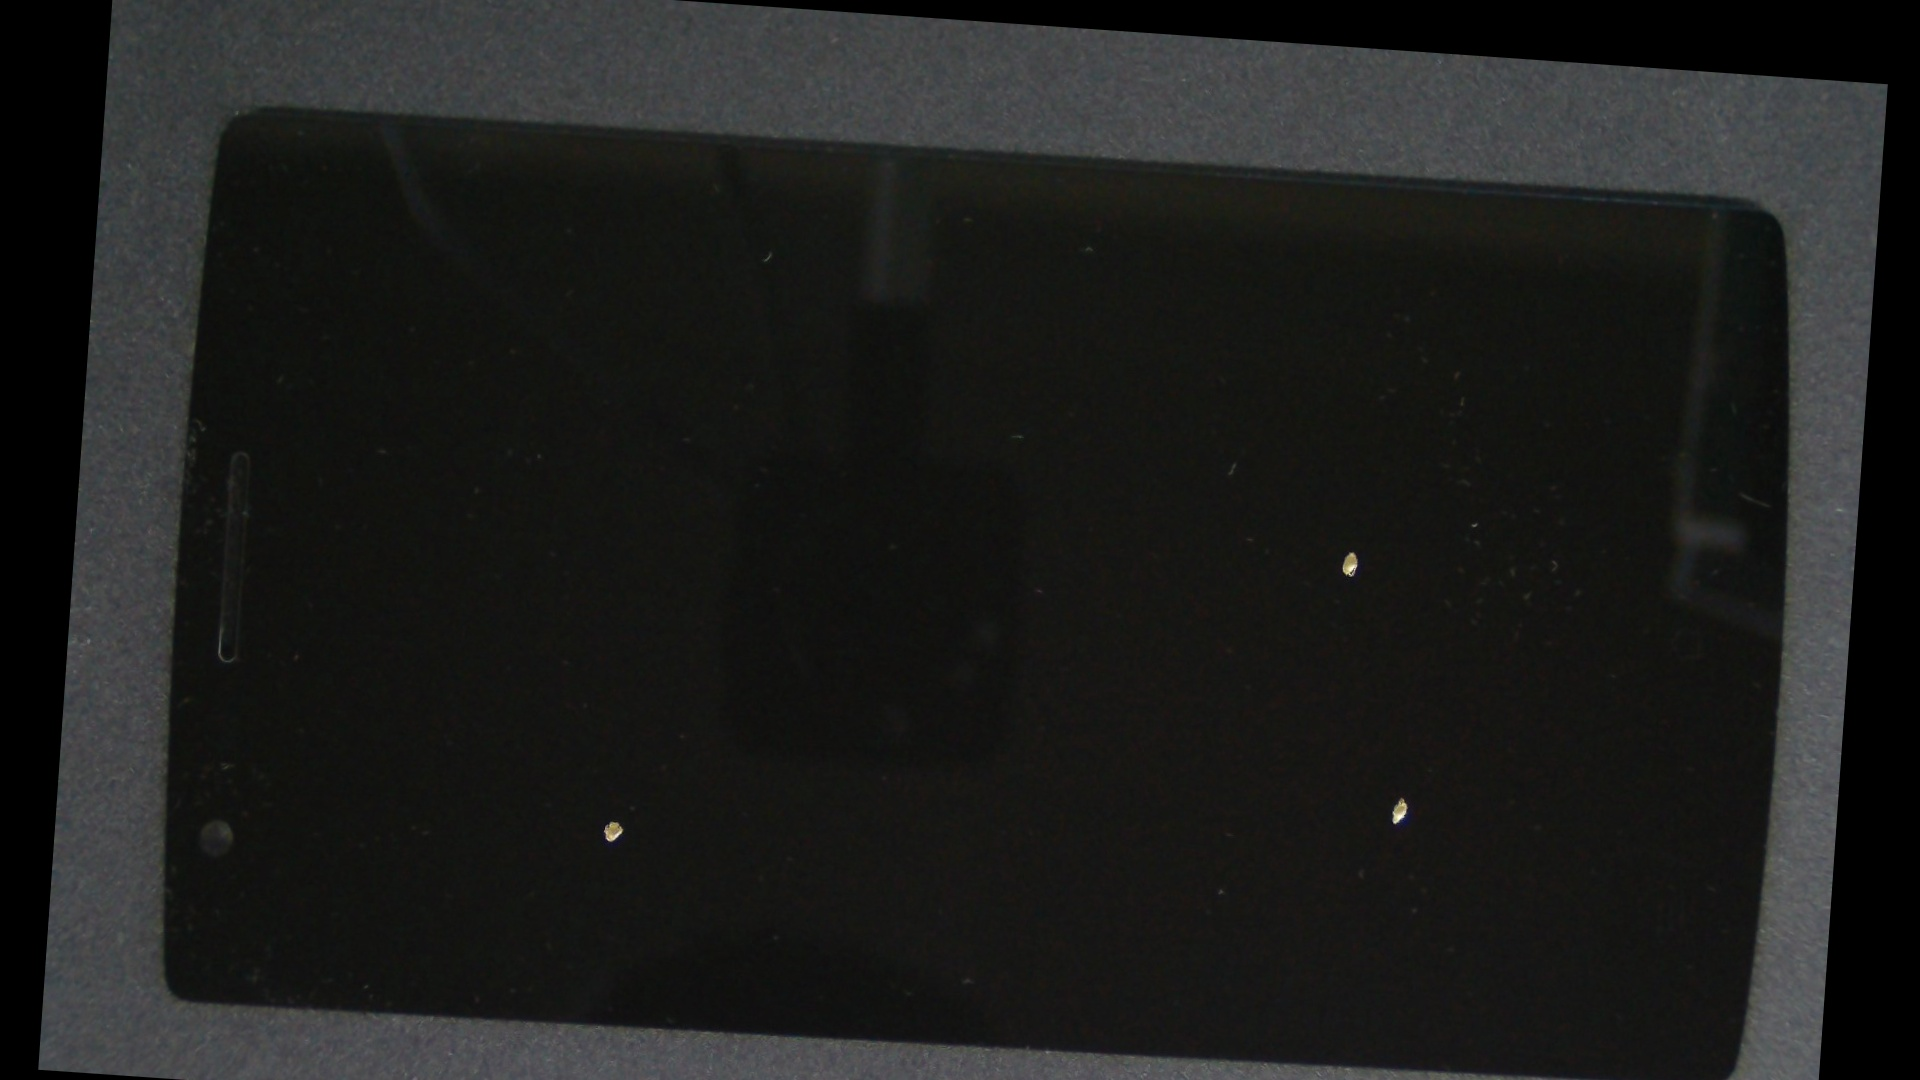oil: (708, 377, 1862, 1080), (699, 256, 1870, 836), (319, 390, 927, 1080)
